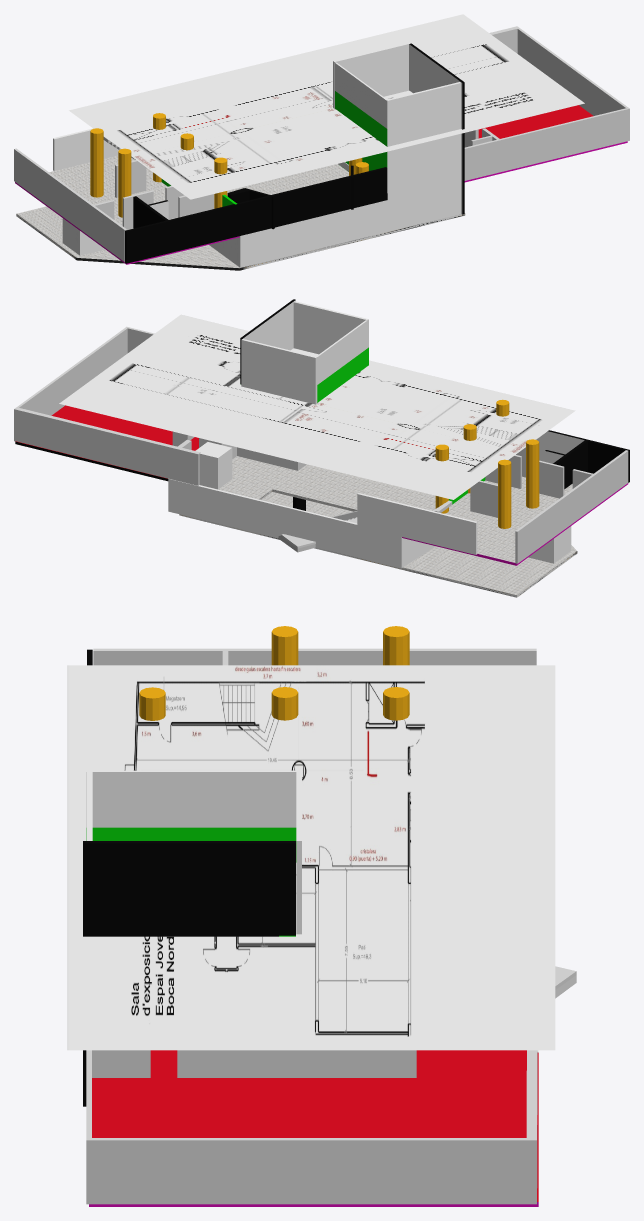
Rendered from bocanord.glb.
3 views of the same model, one above another, from view 1: azimuth 30°, elevation 25°; view 2: azimuth 150°, elevation 25°; view 3: azimuth 270°, elevation 25° (orthographic). The views are drawn at different scales.
Visible parts, largest first — view 1: WhatsApp Image 2021-10-09 at 08.57.33, south-wall-patio, back-wall, wall-concert-hall, floor 1er piso, default-wall.005, floor, bar-wall, south-wall-glass, east-wall, recepcio-wall, column-bar-west.004 (+9 smaller); view 2: WhatsApp Image 2021-10-09 at 08.57.33, floor 1er piso, wall-concert-hall, north-wall, floor, default-wall.005, recepcio-wall, south-wall-glass, bar-wall, back-wall, south-wall-patio, east-wall (+9 smaller); view 3: WhatsApp Image 2021-10-09 at 08.57.33, wall-concert-hall, floor 1er piso, east-wall, bar-wall, wall-camerino-right, default-wall.005, column-bar-west.003, column-bar-west.004, south-wall-glass, column-bar-west.002, column-bar-west (+1 smaller).
Boxes of the visible parts, bbox=[...] form: WhatsApp Image 2021-10-09 at 08.57.33: bbox=[69, 14, 584, 199]; south-wall-patio: bbox=[209, 82, 461, 267]; back-wall: bbox=[125, 167, 387, 263]; wall-concert-hall: bbox=[464, 26, 629, 180]; floor 1er piso: bbox=[15, 105, 627, 264]; default-wall.005: bbox=[14, 148, 127, 261]; floor: bbox=[16, 206, 465, 270]; bar-wall: bbox=[335, 62, 388, 192]; south-wall-glass: bbox=[333, 43, 408, 108]; east-wall: bbox=[409, 43, 464, 214]; recepcio-wall: bbox=[53, 128, 118, 170]; column-bar-west.004: bbox=[90, 128, 103, 197]; WhatsApp Image 2021-10-09 at 08.57.33: bbox=[59, 314, 575, 499]; floor 1er piso: bbox=[15, 405, 628, 565]; wall-concert-hall: bbox=[14, 326, 200, 485]; north-wall: bbox=[168, 478, 402, 568]; floor: bbox=[179, 492, 577, 597]; default-wall.005: bbox=[515, 450, 628, 563]; recepcio-wall: bbox=[357, 493, 477, 554]; south-wall-glass: bbox=[241, 339, 317, 404]; bar-wall: bbox=[313, 319, 368, 404]; back-wall: bbox=[536, 430, 629, 489]; south-wall-patio: bbox=[293, 301, 368, 354]; east-wall: bbox=[240, 299, 295, 384]; WhatsApp Image 2021-10-09 at 08.57.33: bbox=[67, 665, 555, 1050]; wall-concert-hall: bbox=[86, 1050, 537, 1204]; floor 1er piso: bbox=[89, 1050, 538, 1206]; east-wall: bbox=[83, 841, 295, 1106]; bar-wall: bbox=[86, 770, 296, 862]; wall-camerino-right: bbox=[92, 1050, 416, 1077]; default-wall.005: bbox=[93, 648, 536, 665]; column-bar-west.003: bbox=[271, 626, 298, 665]; column-bar-west.004: bbox=[383, 626, 409, 665]; south-wall-glass: bbox=[296, 768, 301, 934]; column-bar-west.002: bbox=[271, 687, 298, 720]; column-bar-west: bbox=[383, 687, 409, 720].
Size of the model in its own units: 41.11 by 10.48 by 18.
Materials: 10 (4 with a texture image).
